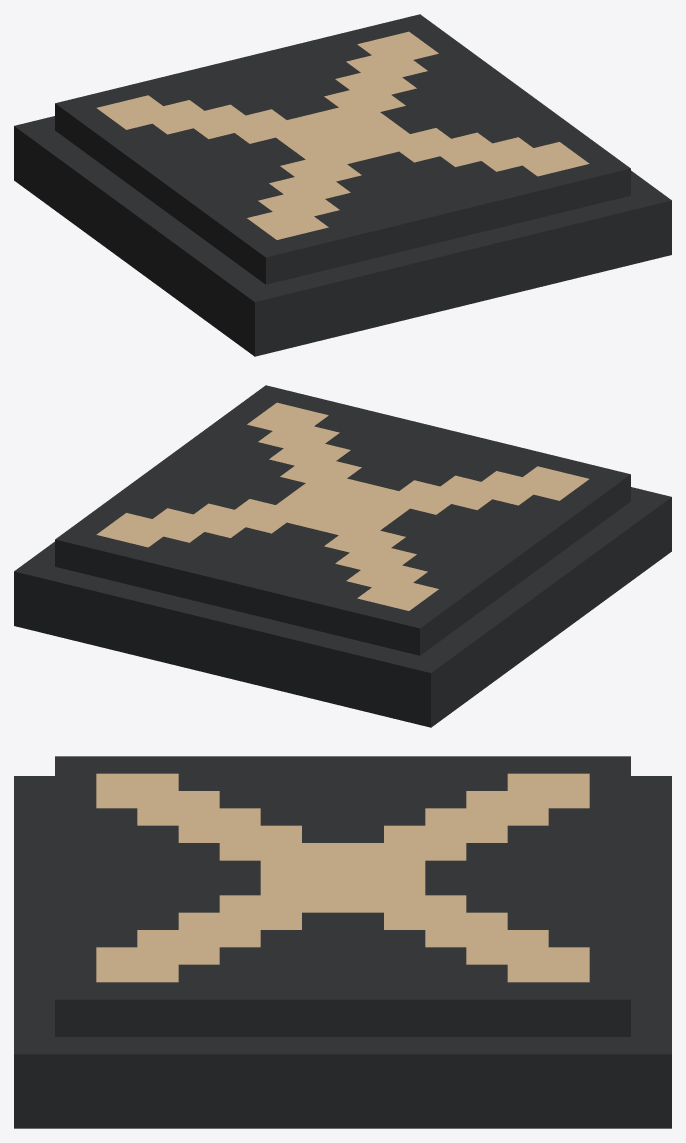
Rendered from x-v4-black-tan.gltf.
The picture shows the model from 3 angles, top to bottom: view 1: azimuth 30°, elevation 25°; view 2: azimuth 150°, elevation 25°; view 3: azimuth 270°, elevation 25°; orthographic projection. The views are drawn at different scales.
Parts seen in each view (by area): view 1: Untitled; view 2: Untitled; view 3: Untitled.
Boxes of the visible parts, x1,y1,x2,y2 form: Untitled: [14, 14, 671, 356]; Untitled: [14, 385, 671, 727]; Untitled: [14, 756, 671, 1128].
Bounding box in the file's own units: 1.6 × 0.3 × 1.6.
1 material, 1 textured.
